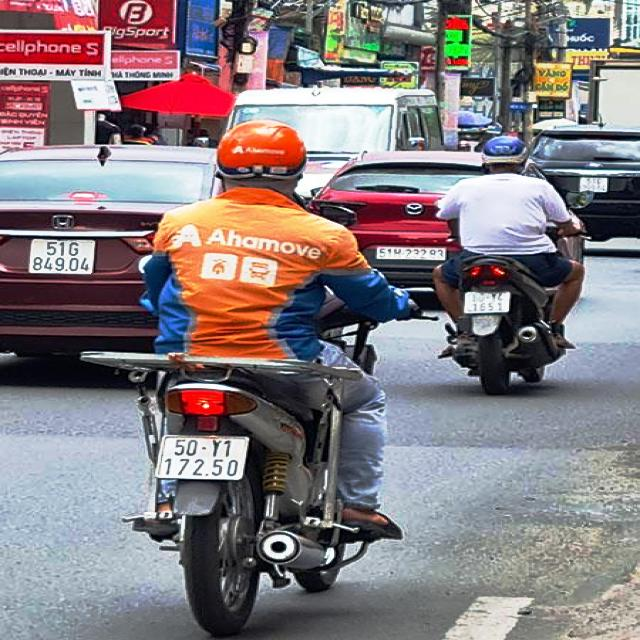license_plate: (154, 437, 255, 479)
